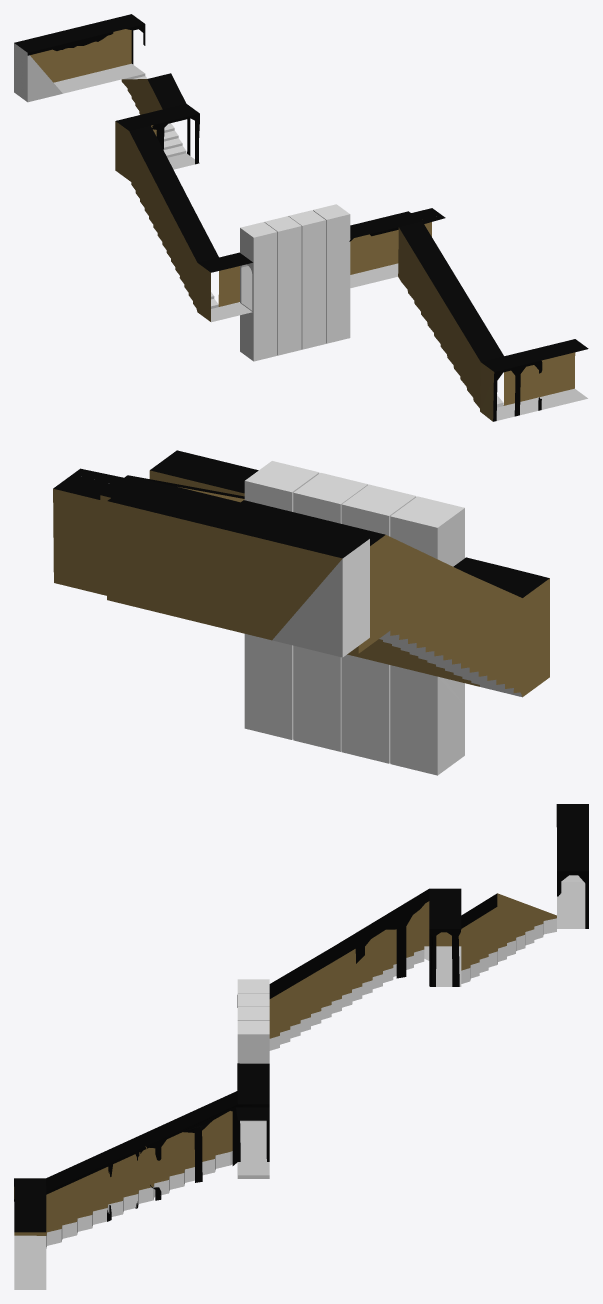
File: ročníkovka jeskyně.fbx
3 renders of one model, top to bottom at view 1: azimuth 30°, elevation 25°; view 2: azimuth 150°, elevation 25°; view 3: azimuth 270°, elevation 25°, orthographic. The views are drawn at different scales.
Visible parts, largest first — view 1: Cube, Cube_1, Cube_2, Cube_4, Cube_3; view 2: Cube, Cube_1, Cube_2, Cube_4, Cube_3; view 3: Cube, Cube_4.
Boxes of the visible parts, <box> form: Cube: <box>14,14,588,421</box>; Cube_1: <box>240,222,277,361</box>; Cube_2: <box>264,216,301,355</box>; Cube_4: <box>313,204,350,343</box>; Cube_3: <box>288,210,325,349</box>; Cube: <box>53,450,549,697</box>; Cube_1: <box>390,496,464,775</box>; Cube_2: <box>341,484,416,763</box>; Cube_4: <box>244,461,319,739</box>; Cube_3: <box>293,473,368,751</box>; Cube: <box>14,804,588,1289</box>; Cube_4: <box>237,1021,269,1178</box>.
Size of the model in its own units: 2779 by 2065 by 3603.
